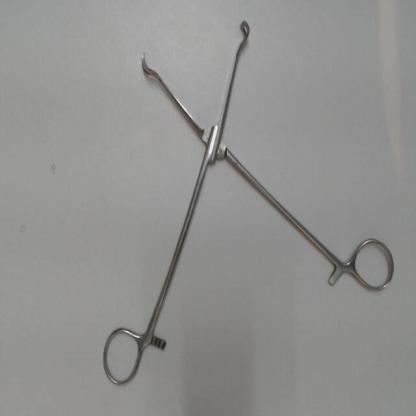8 Babcock Tissue Forceps: (98, 14, 400, 394)
